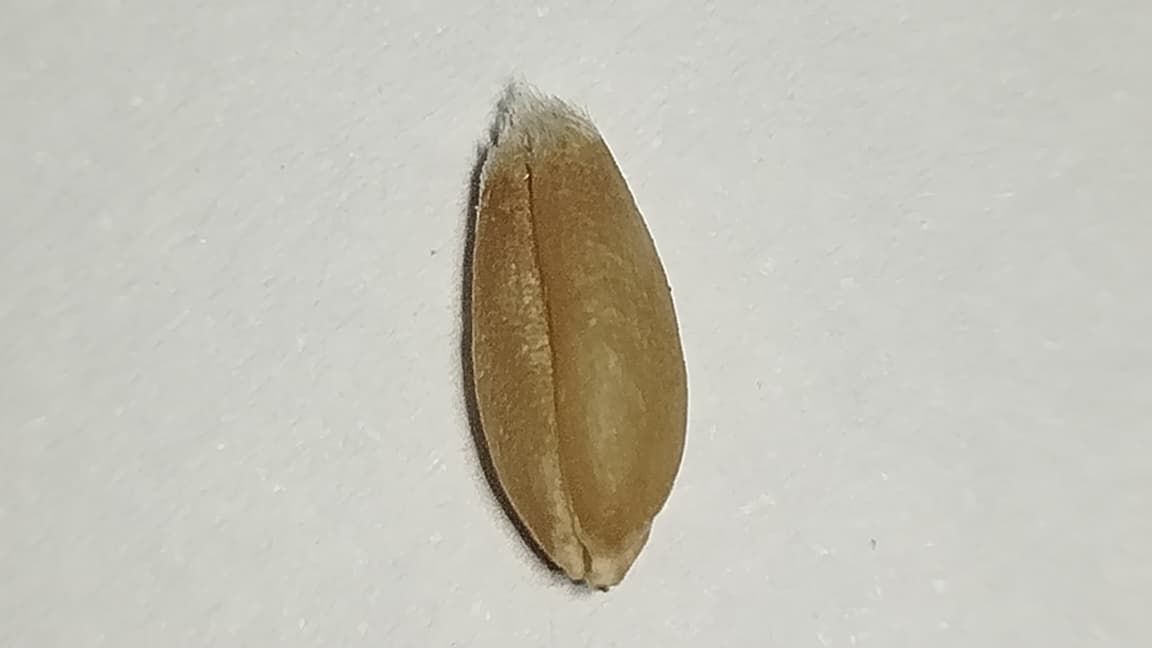healthy: (466, 129, 685, 588)
